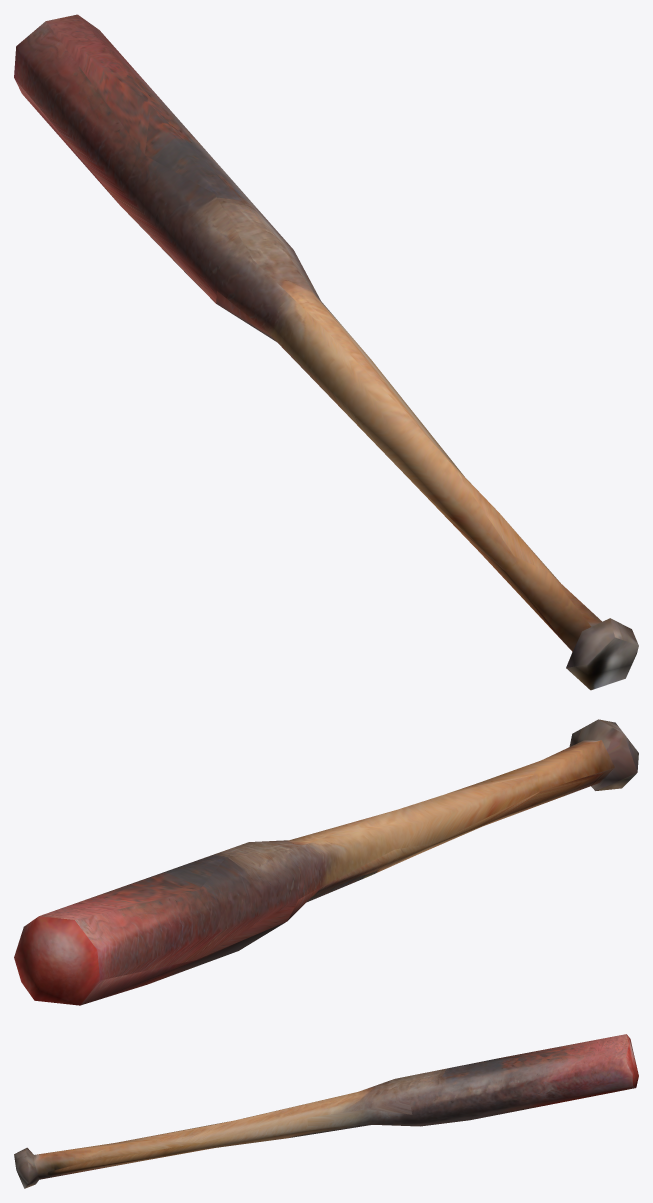
File: baseballBat.fbx
The picture shows the model from 3 angles, top to bottom: view 1: azimuth 30°, elevation 25°; view 2: azimuth 150°, elevation 25°; view 3: azimuth 270°, elevation 25°; orthographic projection. The views are drawn at different scales.
Parts seen in each view (by area): view 1: Mesh1_Mesh1.005; view 2: Mesh1_Mesh1.005; view 3: Mesh1_Mesh1.005.
Boxes of the visible parts, x1,y1,x2,y2 form: Mesh1_Mesh1.005: (14, 14, 638, 690); Mesh1_Mesh1.005: (14, 719, 638, 1005); Mesh1_Mesh1.005: (14, 1034, 638, 1188).
Size of the model in its own units: 17.12 by 52.12 by 200.
Materials: 1 (1 with a texture image).
